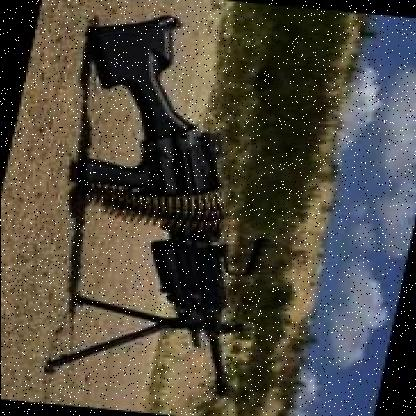rifle: (12, 4, 320, 398)
